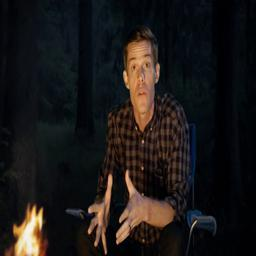fire: (11, 205, 44, 256)
